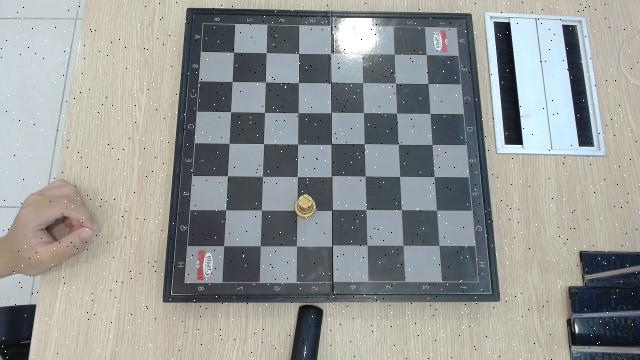black_rook: (294, 194, 316, 218)
